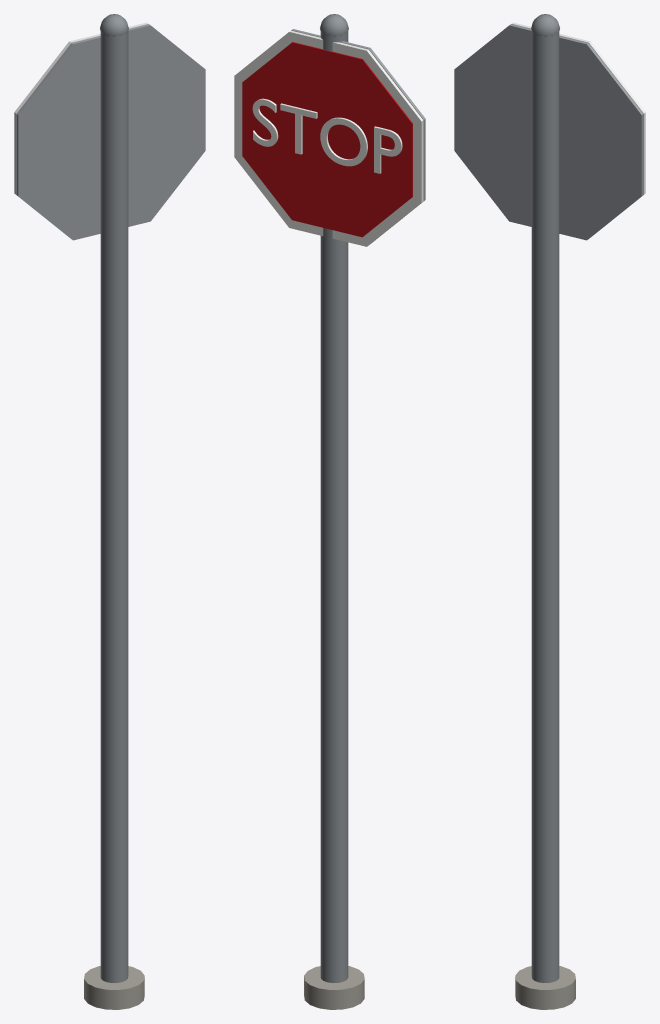
File: Sign_Stop.fbx
3 renders of one model, left to right at view 1: azimuth 30°, elevation 25°; view 2: azimuth 150°, elevation 25°; view 3: azimuth 330°, elevation 25°, orthographic.
Visible parts, largest first — view 1: Sign_Stop_Mesh; view 2: Sign_Stop_Mesh; view 3: Sign_Stop_Mesh.
Boxes of the visible parts, x1,y1,x2,y2 form: Sign_Stop_Mesh: (14, 14, 205, 1009); Sign_Stop_Mesh: (234, 14, 425, 1009); Sign_Stop_Mesh: (454, 14, 645, 1009).
Bounding box in the file's own units: 0.5913 × 2.96 × 0.1672.
